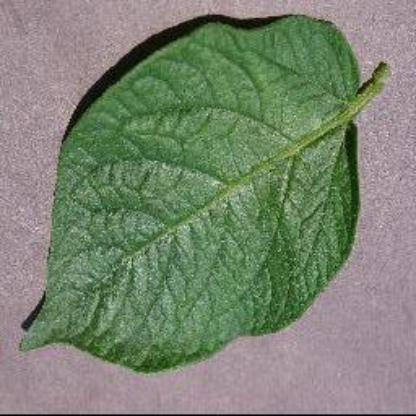Healthy-plant: (20, 13, 386, 376)
